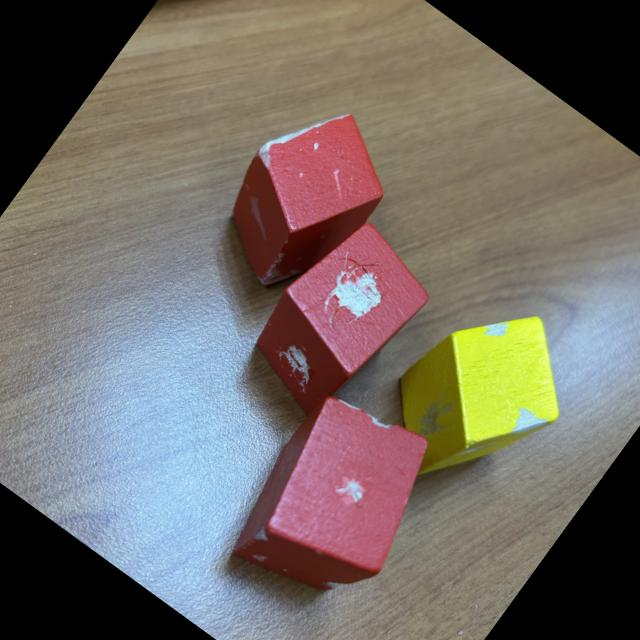broken: (212, 372, 459, 632), (358, 270, 600, 523), (192, 78, 416, 316), (230, 203, 446, 434)
